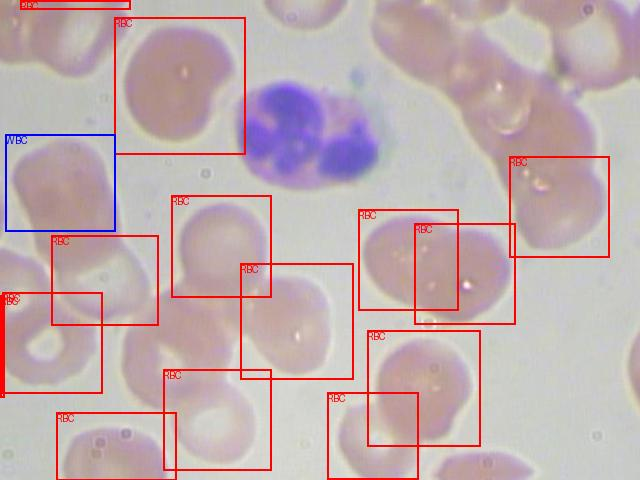RBC: (114, 17, 245, 154), (367, 330, 480, 446), (240, 263, 353, 379), (163, 369, 271, 470), (414, 223, 515, 324), (171, 195, 271, 297), (358, 209, 458, 310), (2, 292, 102, 393), (509, 156, 609, 257), (51, 235, 158, 325), (56, 412, 176, 480), (327, 392, 418, 479), (20, 0, 130, 9), (0, 295, 4, 397)
WBC: (5, 134, 115, 231)
